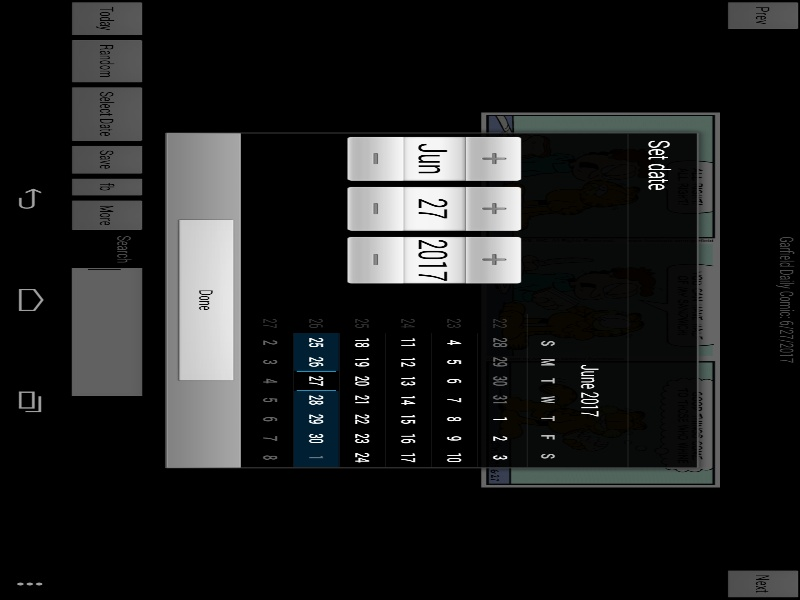Button: (500, 129, 610, 156), (500, 186, 610, 213), (286, 129, 390, 156), (286, 186, 390, 213), (393, 129, 497, 156), (393, 186, 497, 213)
Input: (500, 156, 610, 186), (286, 156, 390, 186), (393, 156, 497, 186)
